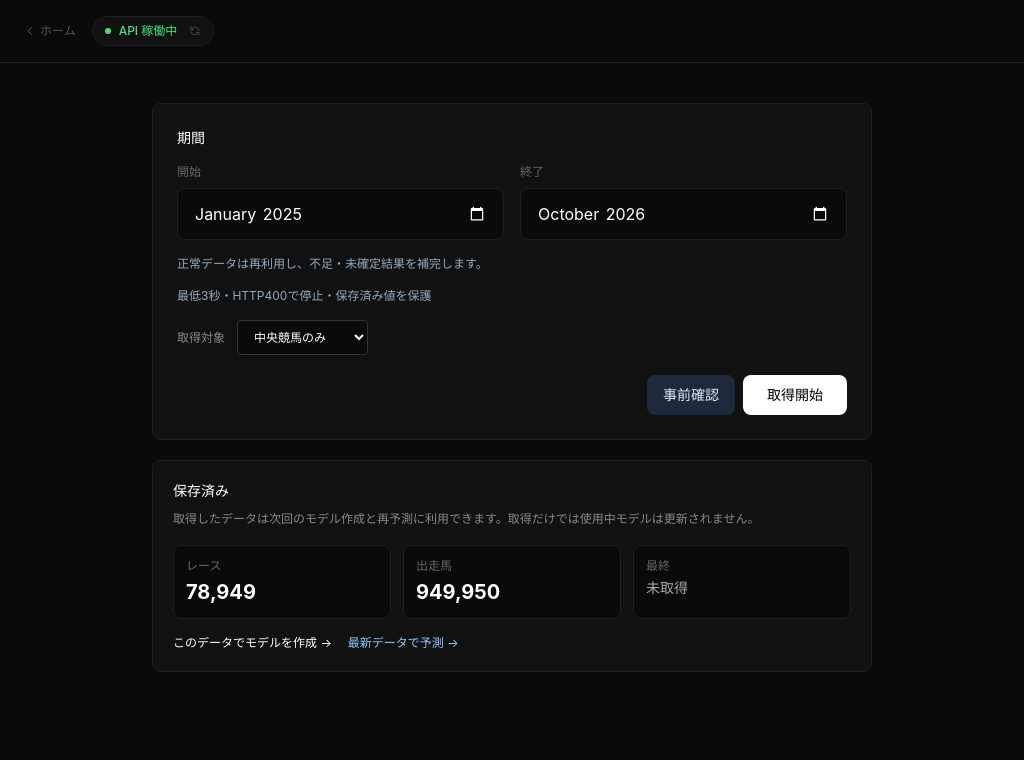
it: collection acquisition-only presentation › pins jra in the matching dry-run request and result label
Expected: the button with test id "dry-run-button" is enabled, [647,375,735,415]
Replace the text in the field with test id "start-period-input" with "2026-09" at (340, 214), box [177,188,504,240]
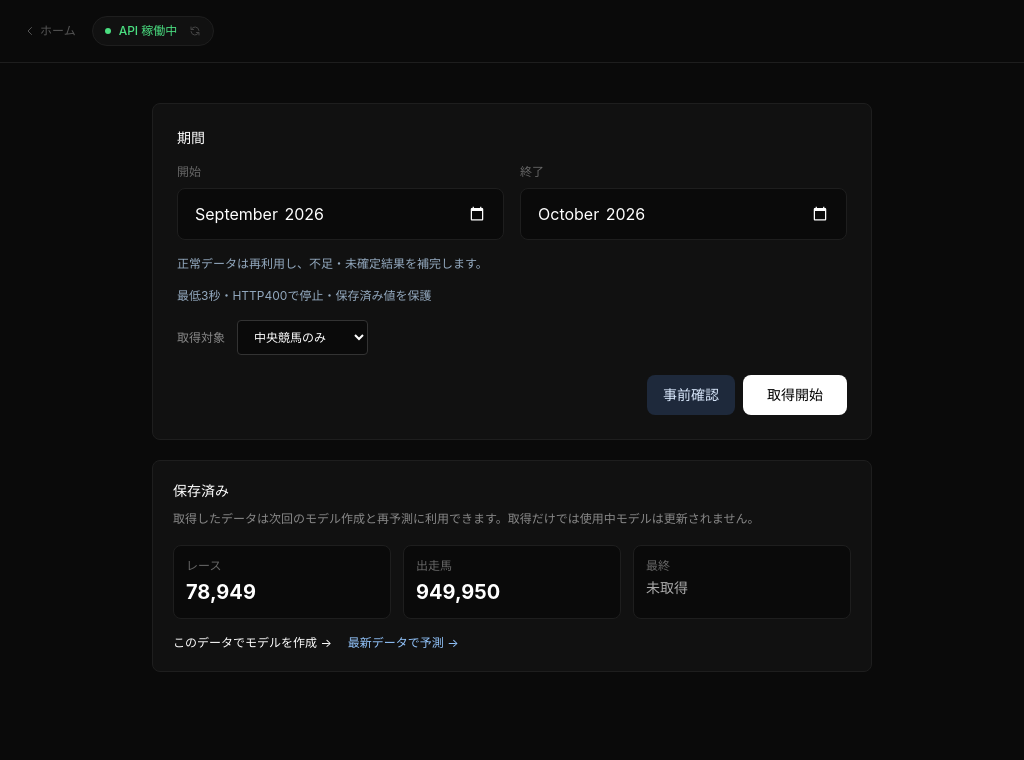
Replace the text in the field with test id "end-period-input" with "2026-09" at (684, 214), box [520,188,847,240]
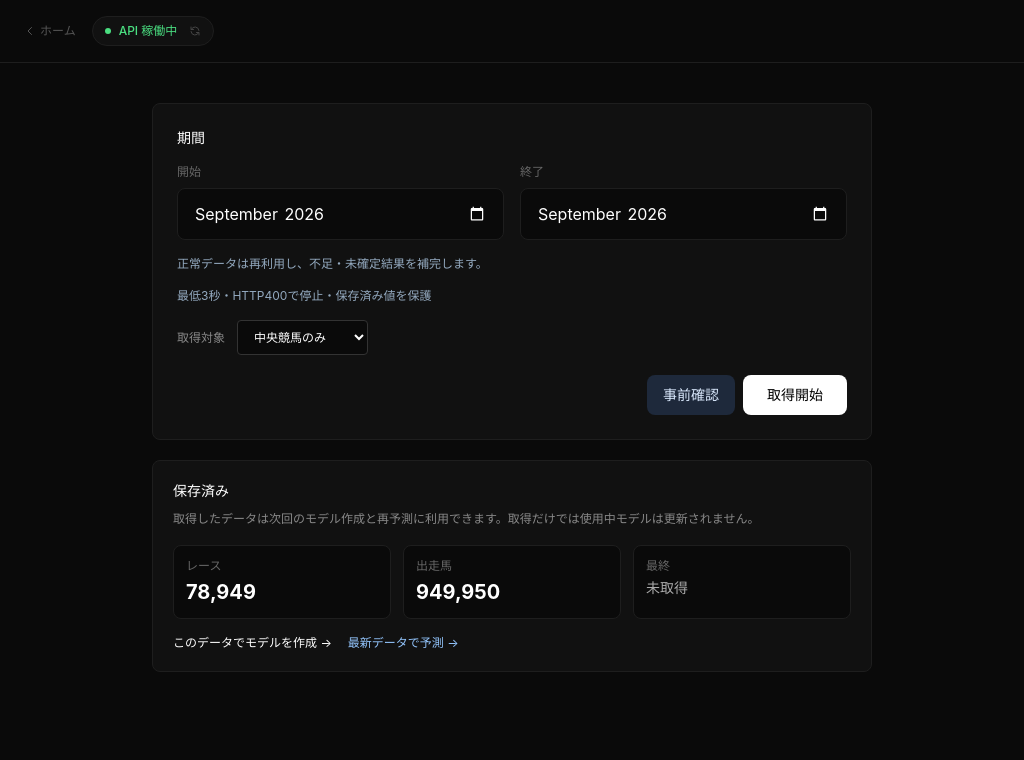
Select "中央競馬のみ" in the dropdown with test id "scrape-race-scope" at (302, 338), box [237,320,368,355]
Click the button with test id "dry-run-button".
click(691, 395)  # box [647,375,735,415]
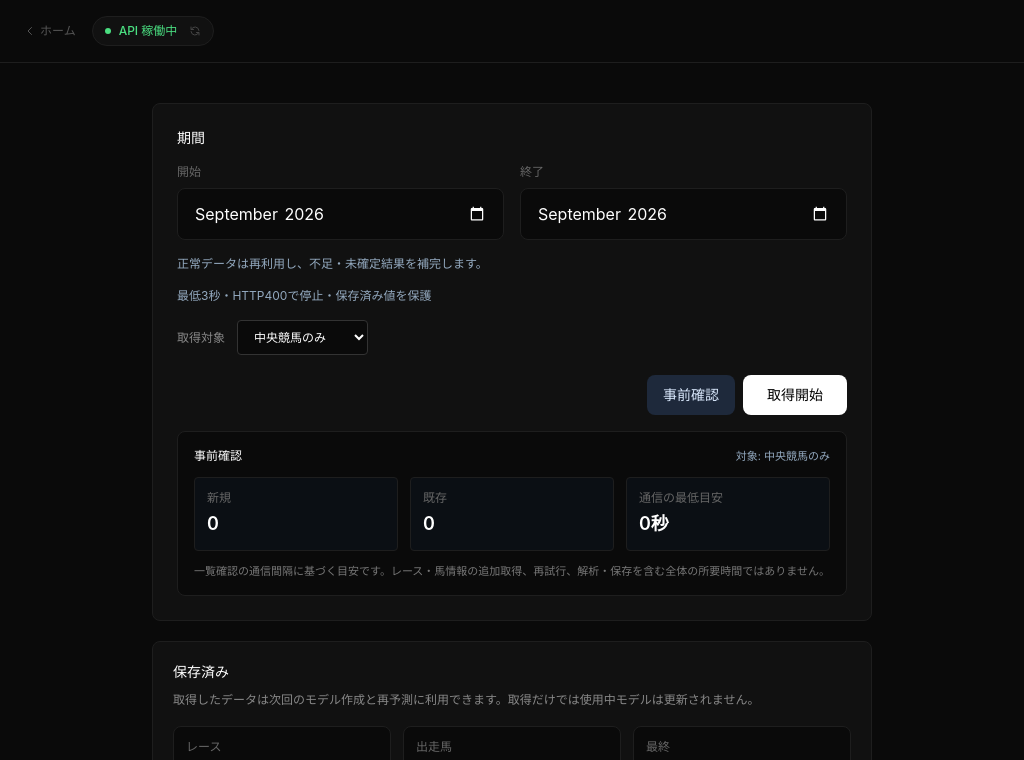
Expected: the text with test id "dry-run-race-scope" shows "中央競馬のみ", [764,449,830,463]
